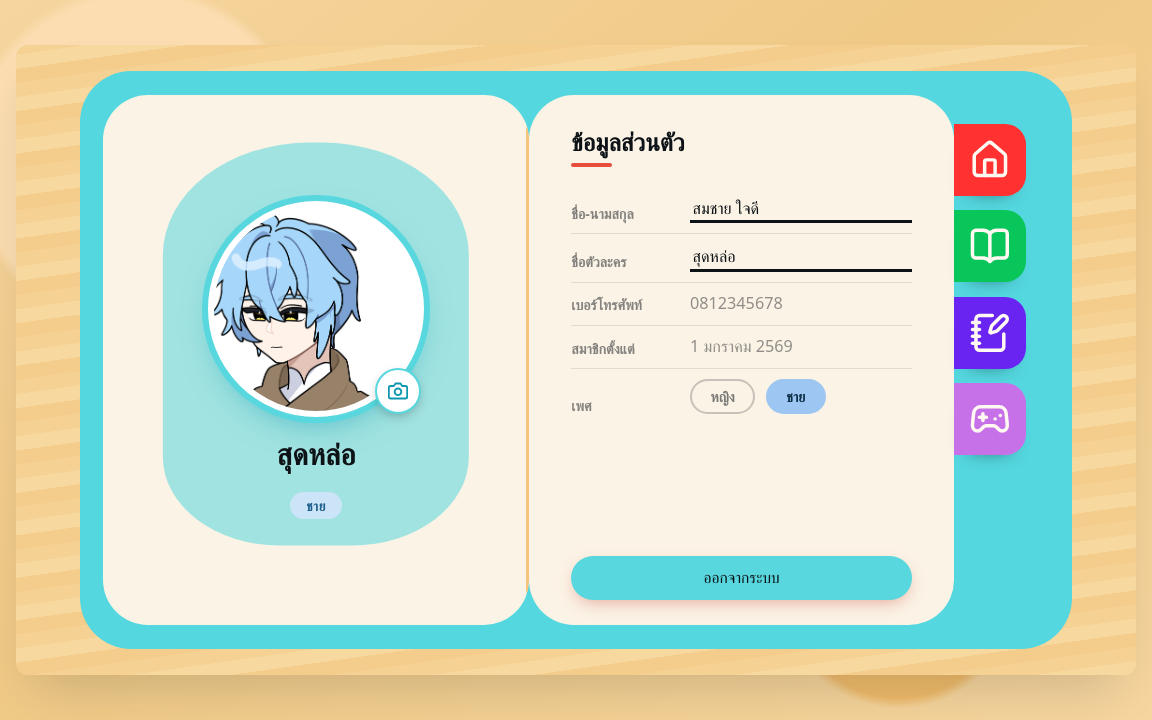
Test: ProfilePage – inline edit › cancel reverts the field and hides action buttons
Replace the text in the field showing "สมชาย ใจดี" with "ชื่อชั่วคราว". click: {"x": 801, "y": 210}
box: 690,196 -> 912,223
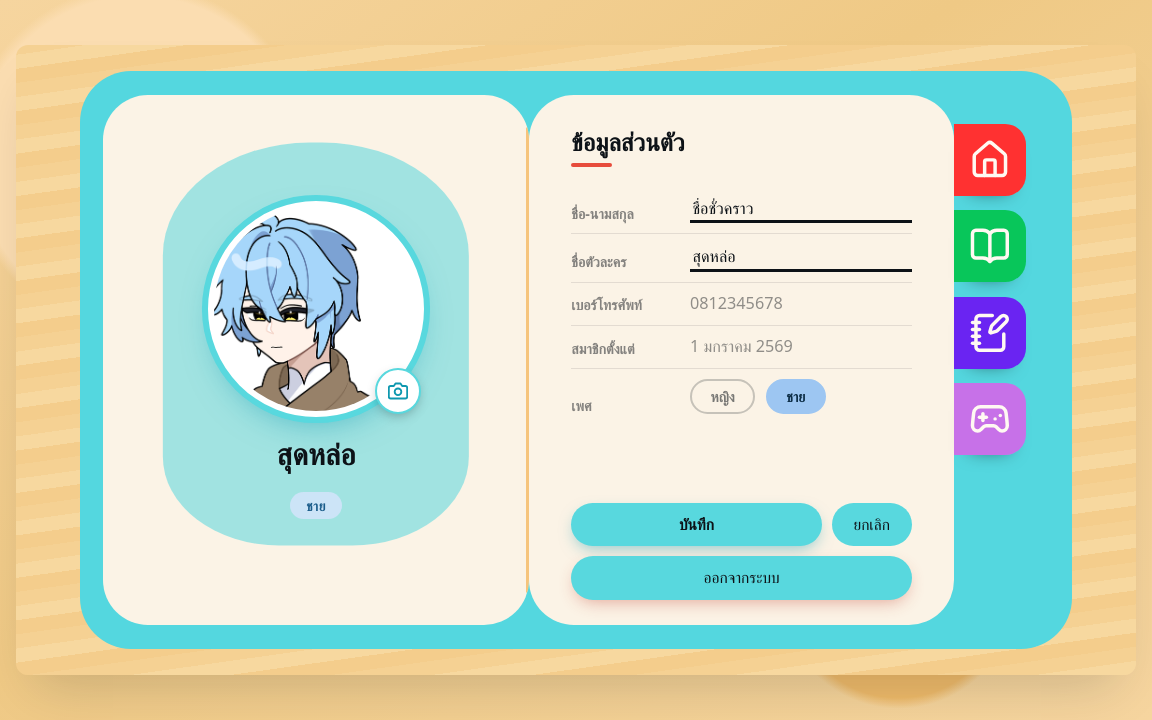
Click the button "ยกเลิก". click: {"x": 872, "y": 524}
box: 832,503 -> 912,546
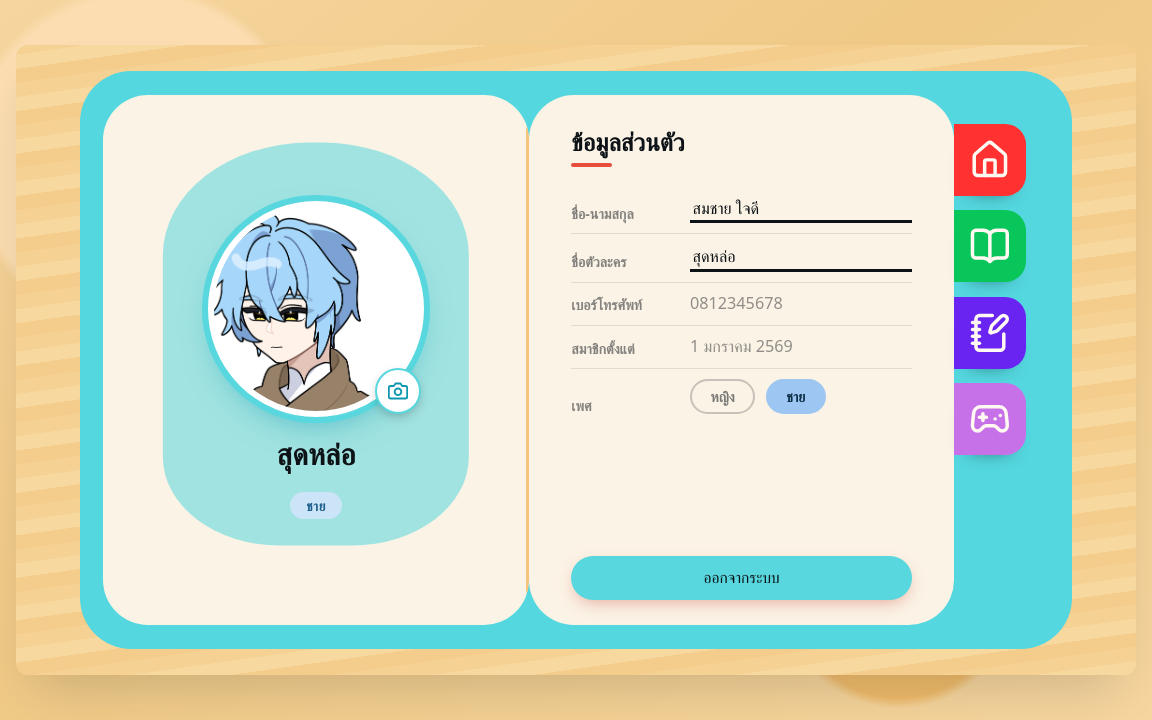
Now the field showing "สมชาย ใจดี" is shown, box 690,196 -> 912,223
Now the button "บันทึก" is gone
